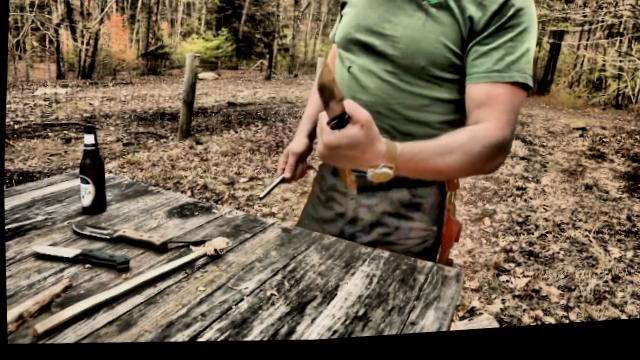knife: (303, 50, 366, 174)
